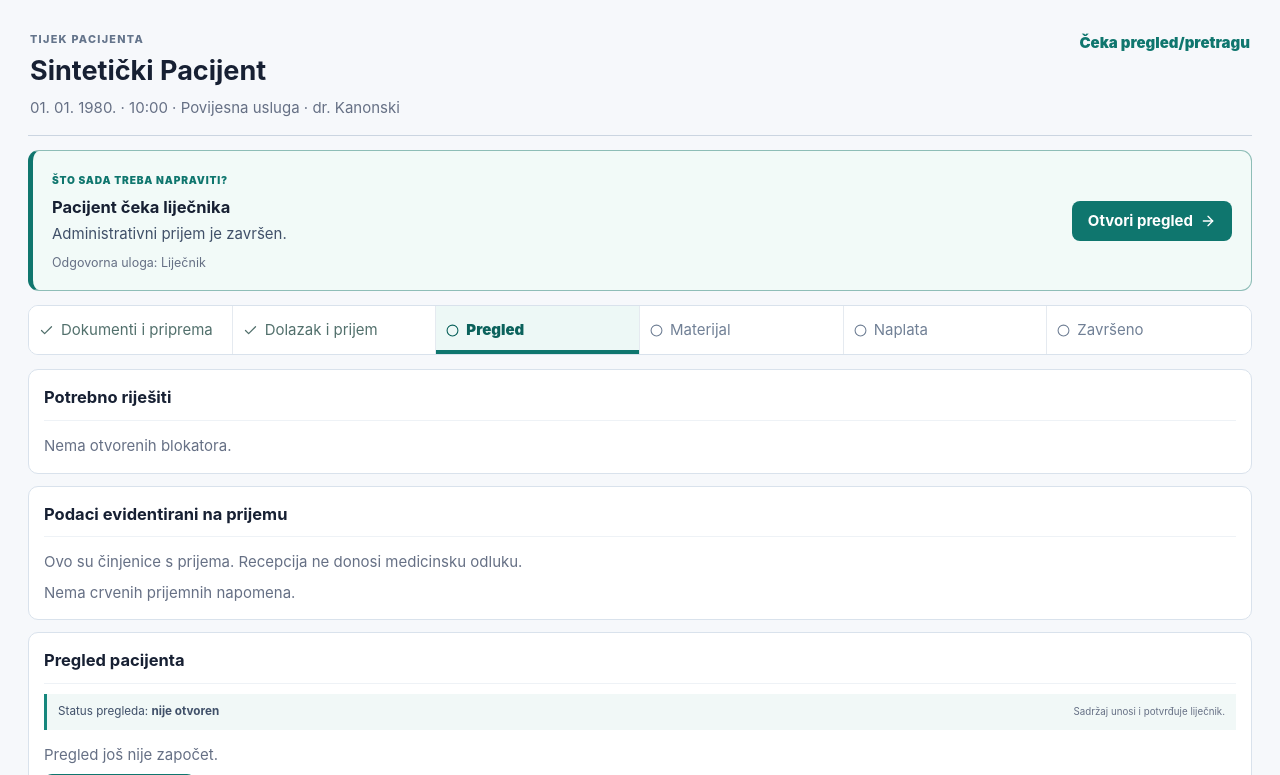
it: fokusirani radni prostor tijeka pacijenta › drugu fazu otvara bez prikaza svih ostalih faza
Expected: the heading "Pregled pacijenta" is shown, [44,648,1236,684]
Click the button "Dolazak i prijem" at (335, 330), box [233,306,436,354]
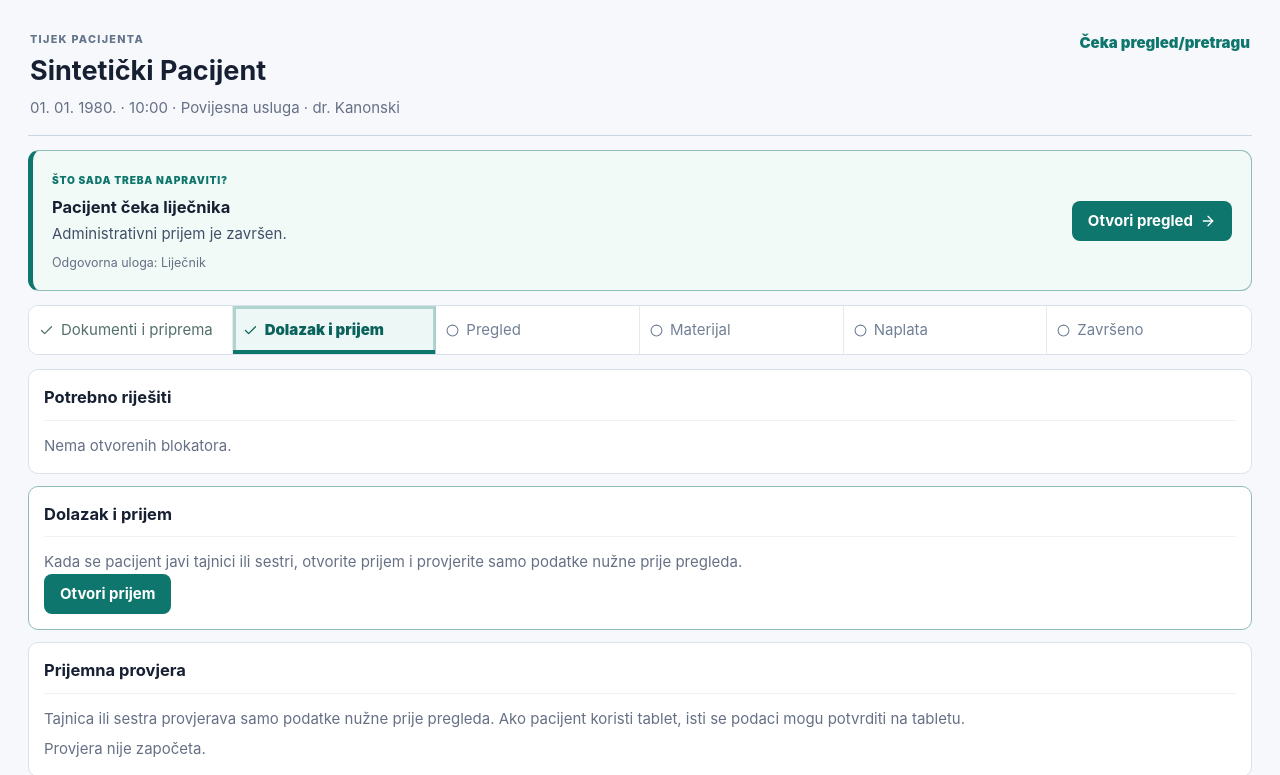
Expected: the heading "Prijemna provjera" is shown, [44,658,1236,694]
Expected: the heading "Pregled pacijenta" is gone
